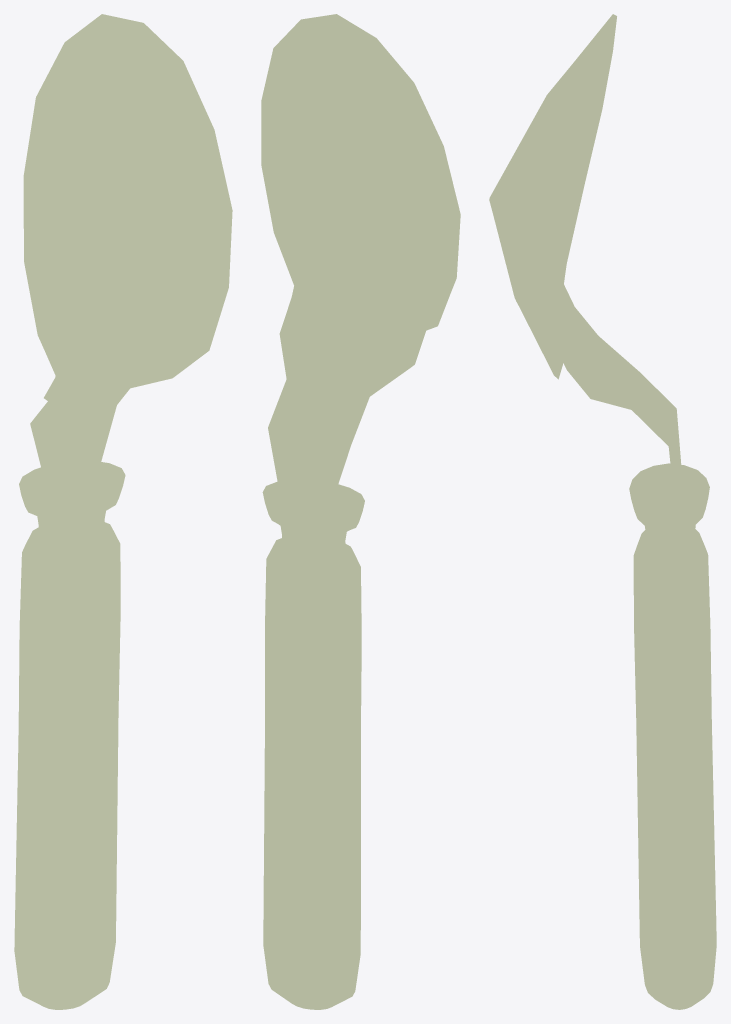
The model's file is spoon1.dae.
The picture shows the model from 3 angles, left to right: view 1: azimuth 30°, elevation 25°; view 2: azimuth 150°, elevation 25°; view 3: azimuth 270°, elevation 25°; orthographic projection. The views are drawn at different scales.
Visible parts, largest first — view 1: STL object-0; view 2: STL object-0; view 3: STL object-0.
Part boxes in pixels (x1,y1,x2,y2): STL object-0: (14,14,232,1009); STL object-0: (261,14,460,1009); STL object-0: (489,14,716,1009).
Bounding box in the file's own units: 0.0399 × 0.1855 × 0.0386.
